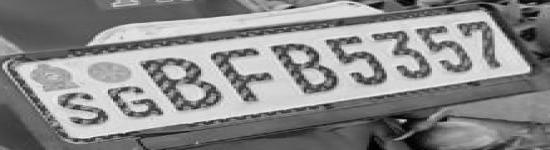3: (359, 26, 450, 83)
5: (318, 30, 406, 89), (406, 22, 491, 78)
7: (447, 16, 526, 74)
B: (126, 52, 247, 117), (258, 38, 353, 98)
F: (203, 43, 300, 107)
G: (106, 86, 165, 118)
S: (51, 92, 110, 126)
